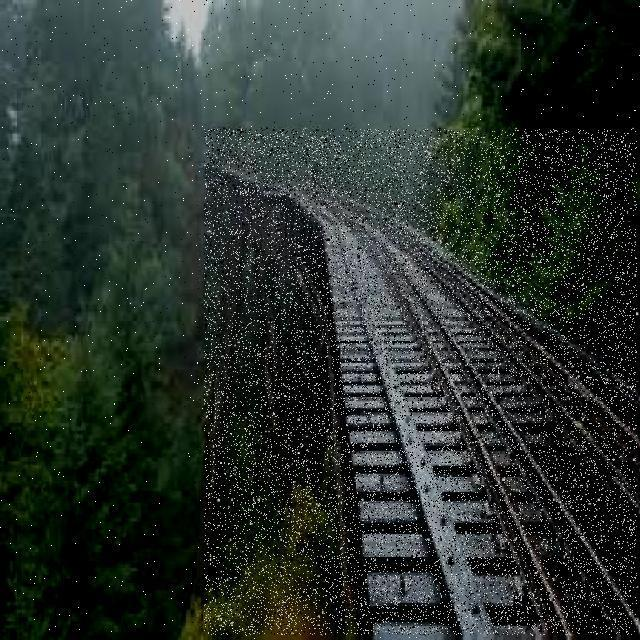rail: (204, 129, 637, 635)
